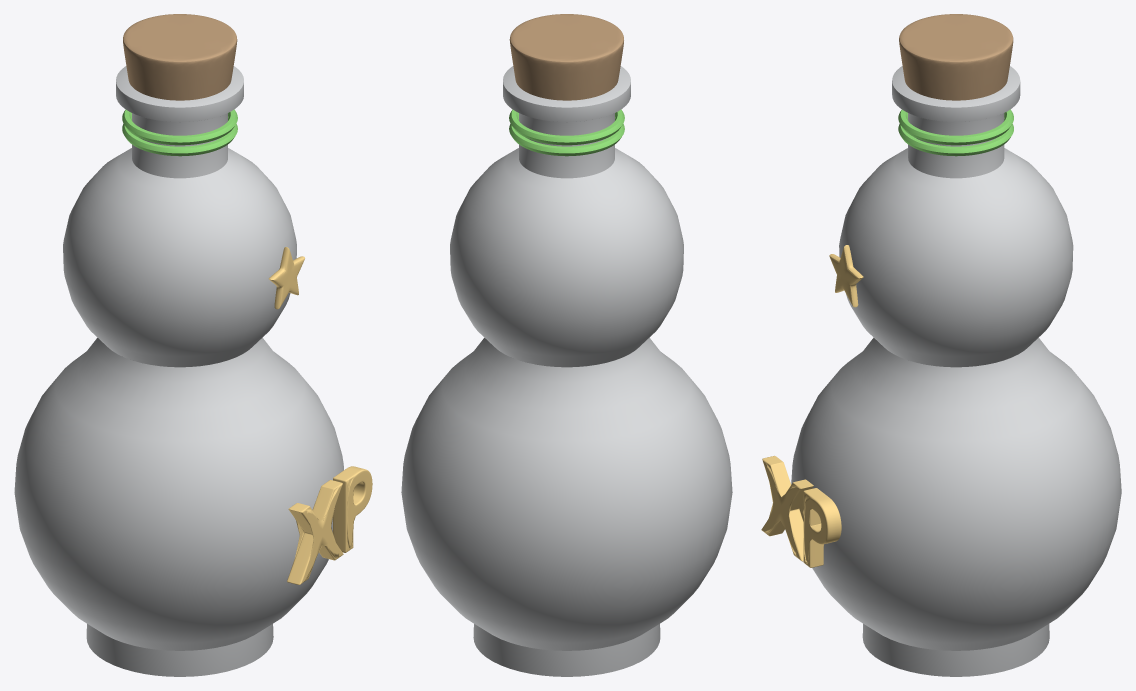
The model's file is xppotion.glb.
3 views of the same model, side by side, from view 1: azimuth 30°, elevation 25°; view 2: azimuth 150°, elevation 25°; view 3: azimuth 270°, elevation 25° (orthographic).
Parts seen in each view (by area): view 1: XPPotion_Glass, XPPotion_Cork, XPPotion_LabelText, XPPotion_String.001, XPPotion_String, XPPotion_LabelIcon; view 2: XPPotion_Glass, XPPotion_Cork, XPPotion_String.001, XPPotion_String; view 3: XPPotion_Glass, XPPotion_Cork, XPPotion_LabelText, XPPotion_String.001, XPPotion_String, XPPotion_LabelIcon.
Boxes of the visible parts, <box> form: XPPotion_Glass: <box>14,66,343,676</box>; XPPotion_Cork: <box>123,14,237,100</box>; XPPotion_LabelText: <box>287,466,372,584</box>; XPPotion_String.001: <box>122,109,237,145</box>; XPPotion_String: <box>122,116,237,156</box>; XPPotion_LabelIcon: <box>268,247,304,309</box>; XPPotion_Glass: <box>401,66,732,676</box>; XPPotion_Cork: <box>509,14,623,100</box>; XPPotion_String.001: <box>509,109,624,145</box>; XPPotion_String: <box>509,116,624,156</box>; XPPotion_Glass: <box>791,66,1121,676</box>; XPPotion_Cork: <box>899,14,1013,100</box>; XPPotion_LabelText: <box>761,456,841,567</box>; XPPotion_String.001: <box>898,109,1013,145</box>; XPPotion_String: <box>898,118,1013,156</box>; XPPotion_LabelIcon: <box>829,245,863,307</box>.
Bounding box in the file's own units: 1.24 × 2.48 × 1.35.
